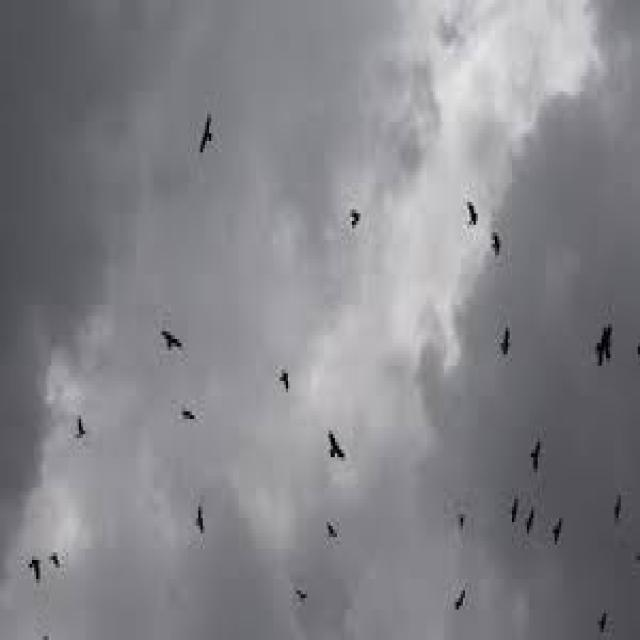bird: (180, 91, 244, 176), (154, 316, 208, 381), (566, 320, 632, 370), (319, 390, 353, 482), (180, 488, 220, 548), (486, 310, 518, 383), (68, 402, 102, 467), (483, 204, 513, 276), (429, 574, 478, 616), (520, 421, 554, 478), (42, 535, 70, 596), (320, 508, 343, 578), (460, 175, 488, 232), (270, 348, 296, 406), (22, 543, 48, 600), (499, 484, 518, 548), (549, 506, 571, 556), (181, 387, 205, 432), (294, 566, 314, 620), (610, 474, 627, 532), (344, 200, 369, 238), (454, 497, 474, 539), (524, 489, 538, 546), (599, 609, 616, 640)
